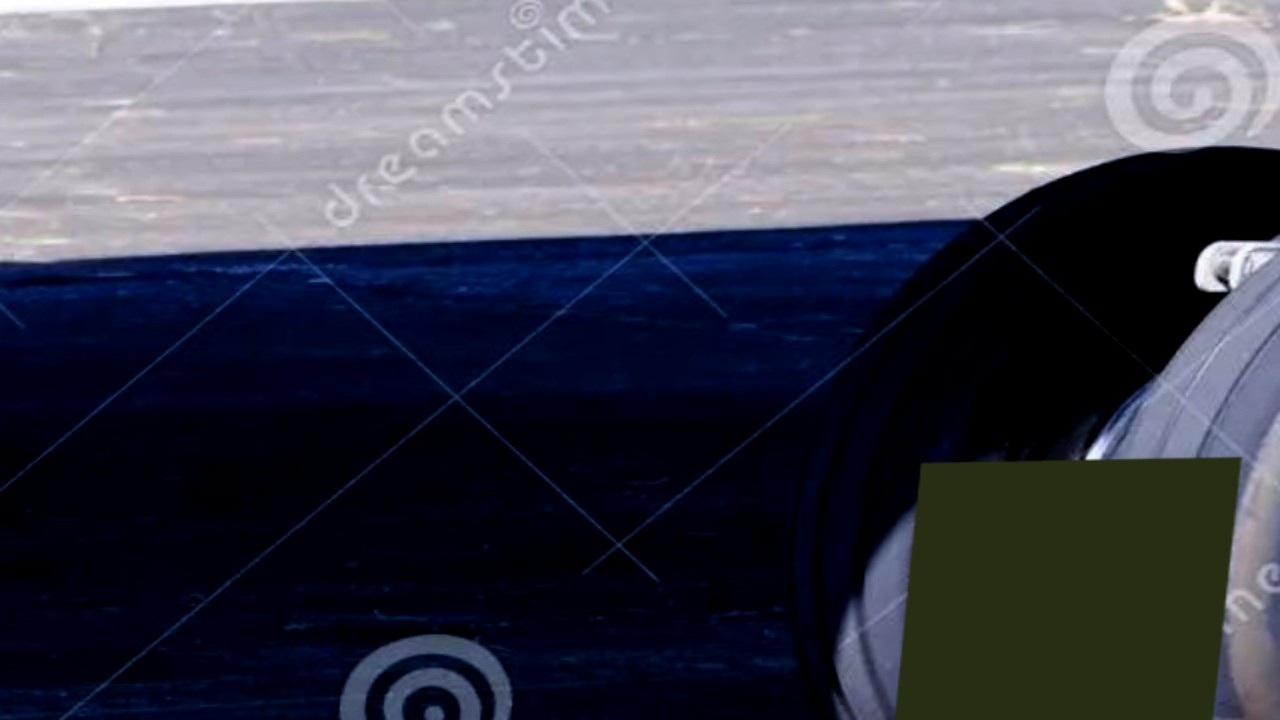wheel: (752, 138, 1280, 720), (1051, 156, 1280, 720)
